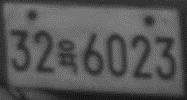0: (105, 33, 128, 77)
2: (130, 33, 154, 79), (34, 30, 55, 73)
3: (8, 28, 32, 73), (153, 35, 177, 80)
6: (80, 33, 105, 77)
육: (56, 38, 80, 75)
